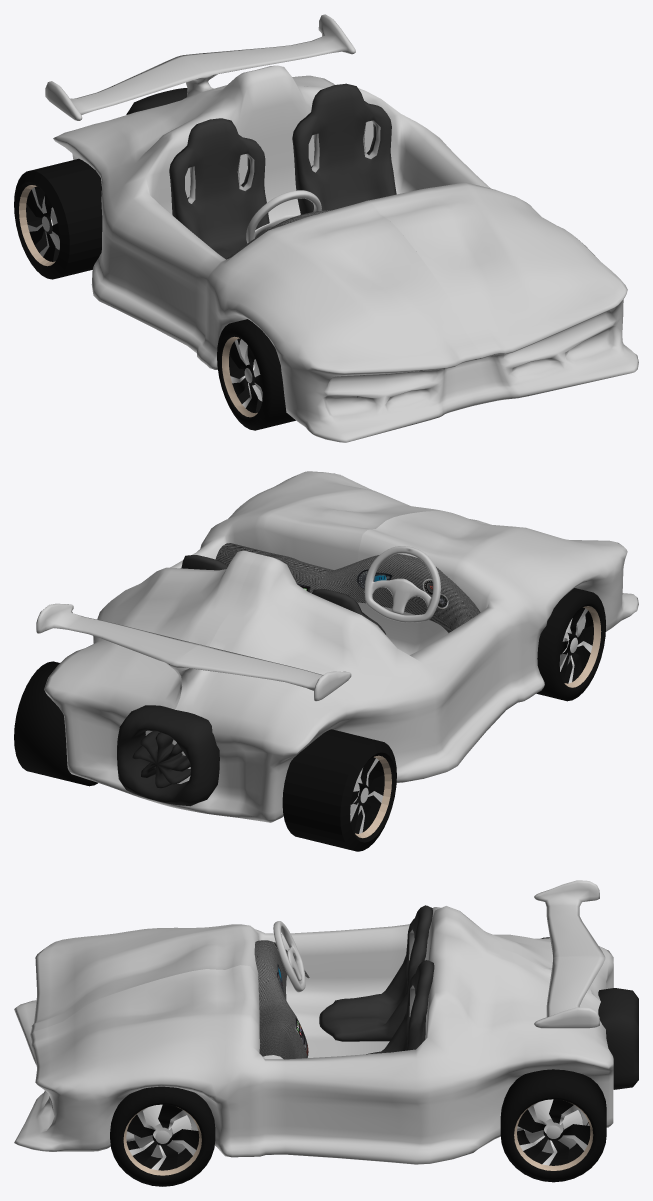
The model's file is lowo ireng V2-a.fbx.
3 renders of one model, top to bottom at view 1: azimuth 30°, elevation 25°; view 2: azimuth 150°, elevation 25°; view 3: azimuth 270°, elevation 25°, orthographic. The views are drawn at different scales.
Parts seen in each view (by area): view 1: Cube.003, Cube.004, Cube.001, Cylinder.004, Cylinder.003, Cube, Cube.002; view 2: Cube.003, Cylinder.004, Cube.002, Plane, Cylinder.003, Cylinder.005, Cube, Cube.001, Cube.004; view 3: Cube.003, Cylinder.005, Cylinder.006, Cube.001, Plane, Cube.002, Cube.004, Cube.
Part boxes in pixels (x1,y1,x2,y2): Cube.003: (45, 14, 638, 442); Cube.004: (292, 83, 396, 214); Cube.001: (169, 118, 269, 258); Cylinder.004: (14, 158, 102, 279); Cylinder.003: (217, 319, 295, 430); Cube: (246, 190, 321, 243); Cube.002: (126, 88, 187, 114); Cube.003: (36, 471, 638, 822); Cylinder.004: (282, 729, 396, 851); Cube.002: (117, 705, 219, 806); Plane: (215, 543, 480, 632); Cylinder.003: (536, 588, 605, 701); Cylinder.005: (14, 661, 97, 786); Cube: (364, 546, 440, 622); Cube.001: (312, 589, 385, 634); Cube.004: (181, 555, 227, 570); Cube.003: (14, 880, 613, 1164); Cylinder.005: (500, 1069, 606, 1182); Cylinder.006: (110, 1086, 215, 1186); Cube.001: (319, 905, 432, 1041); Plane: (254, 940, 309, 1059); Cube.002: (598, 988, 638, 1089); Cube.004: (366, 960, 434, 1054); Cube: (273, 921, 305, 992).
Bounding box in the file's own units: 652 × 360 × 1026.
